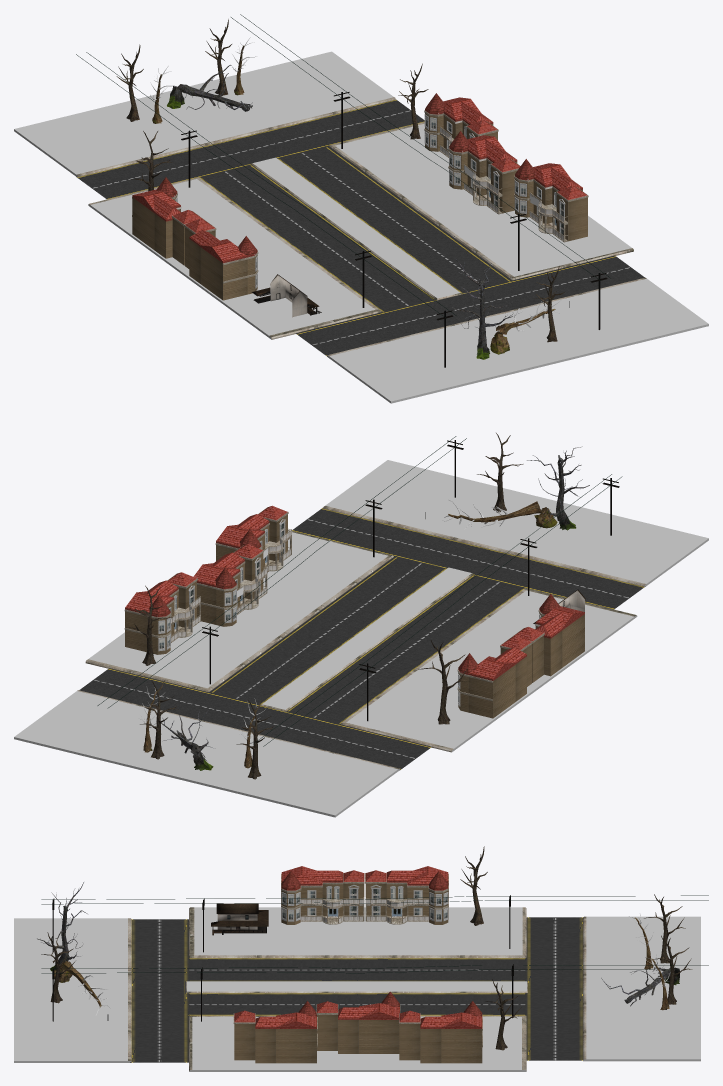
The model's file is frat_row.fbx.
3 renders of one model, top to bottom at view 1: azimuth 30°, elevation 25°; view 2: azimuth 150°, elevation 25°; view 3: azimuth 270°, elevation 25°, orthographic. The views are drawn at different scales.
Visible parts, largest first — view 1: pCube39 (×2), pPlane4 (×2), pCube37, pCube36, pPlane2, pPlane3, pCube38, polySurface3143, polySurface3141, polySurface2920, polySurface3142, polySurface2919 (+2 smaller); view 2: pCube39 (×2), pPlane4 (×2), pCube37, pCube36, pPlane2, pPlane3, pCube38, polySurface3142, polySurface2919, polySurface2920, polySurface3141, polySurface3143 (+3 smaller); view 3: pCube39 (×2), pPlane4 (×2), pCube36, pCube37, pPlane2, pPlane3, polySurface3142, polySurface3141, pCube38, polySurface2919, polySurface3143, polySurface2920 (+12 smaller).
Boxes of the visible parts, x1,y1,x2,y2 form: pCube39 (×2): [14, 51, 708, 403]; pPlane4 (×2): [76, 99, 644, 356]; pCube37: [329, 122, 633, 280]; pCube36: [88, 177, 381, 339]; pPlane2: [199, 165, 434, 312]; pPlane3: [277, 146, 512, 293]; pCube38: [251, 157, 461, 300]; polySurface3143: [514, 159, 588, 242]; polySurface3141: [184, 218, 258, 300]; polySurface2920: [448, 131, 520, 214]; polySurface3142: [132, 177, 204, 265]; polySurface2919: [424, 93, 498, 157]; pCube39 (×2): [14, 460, 708, 817]; pPlane4 (×2): [79, 508, 645, 770]; pCube37: [85, 530, 393, 692]; pCube36: [340, 588, 637, 752]; pPlane2: [287, 575, 524, 724]; pPlane3: [210, 556, 445, 704]; pCube38: [260, 567, 473, 711]; polySurface3142: [457, 635, 532, 718]; polySurface2919: [124, 572, 200, 654]; polySurface2920: [193, 544, 267, 626]; polySurface3141: [512, 594, 584, 682]; polySurface3143: [215, 505, 291, 572]; pCube39 (×2): [14, 916, 700, 1062]; pPlane4 (×2): [130, 917, 582, 1062]; pCube36: [189, 907, 526, 958]; pCube37: [189, 1015, 526, 1071]; pPlane2: [189, 958, 525, 981]; pPlane3: [188, 993, 526, 1016]; polySurface3142: [363, 866, 448, 924]; polySurface3141: [281, 866, 364, 924]; pCube38: [185, 981, 527, 993]; polySurface2919: [399, 1001, 482, 1063]; polySurface3143: [233, 1001, 317, 1063]; polySurface2920: [316, 991, 400, 1053].
Size of the model in its own units: 573 by 176 by 1034.
